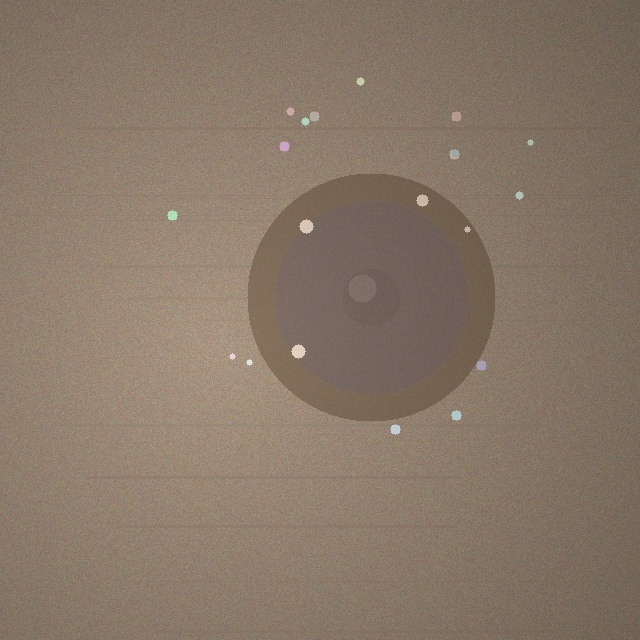overburn: (247, 173, 495, 421)
